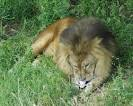lion: (24, 14, 119, 98)
